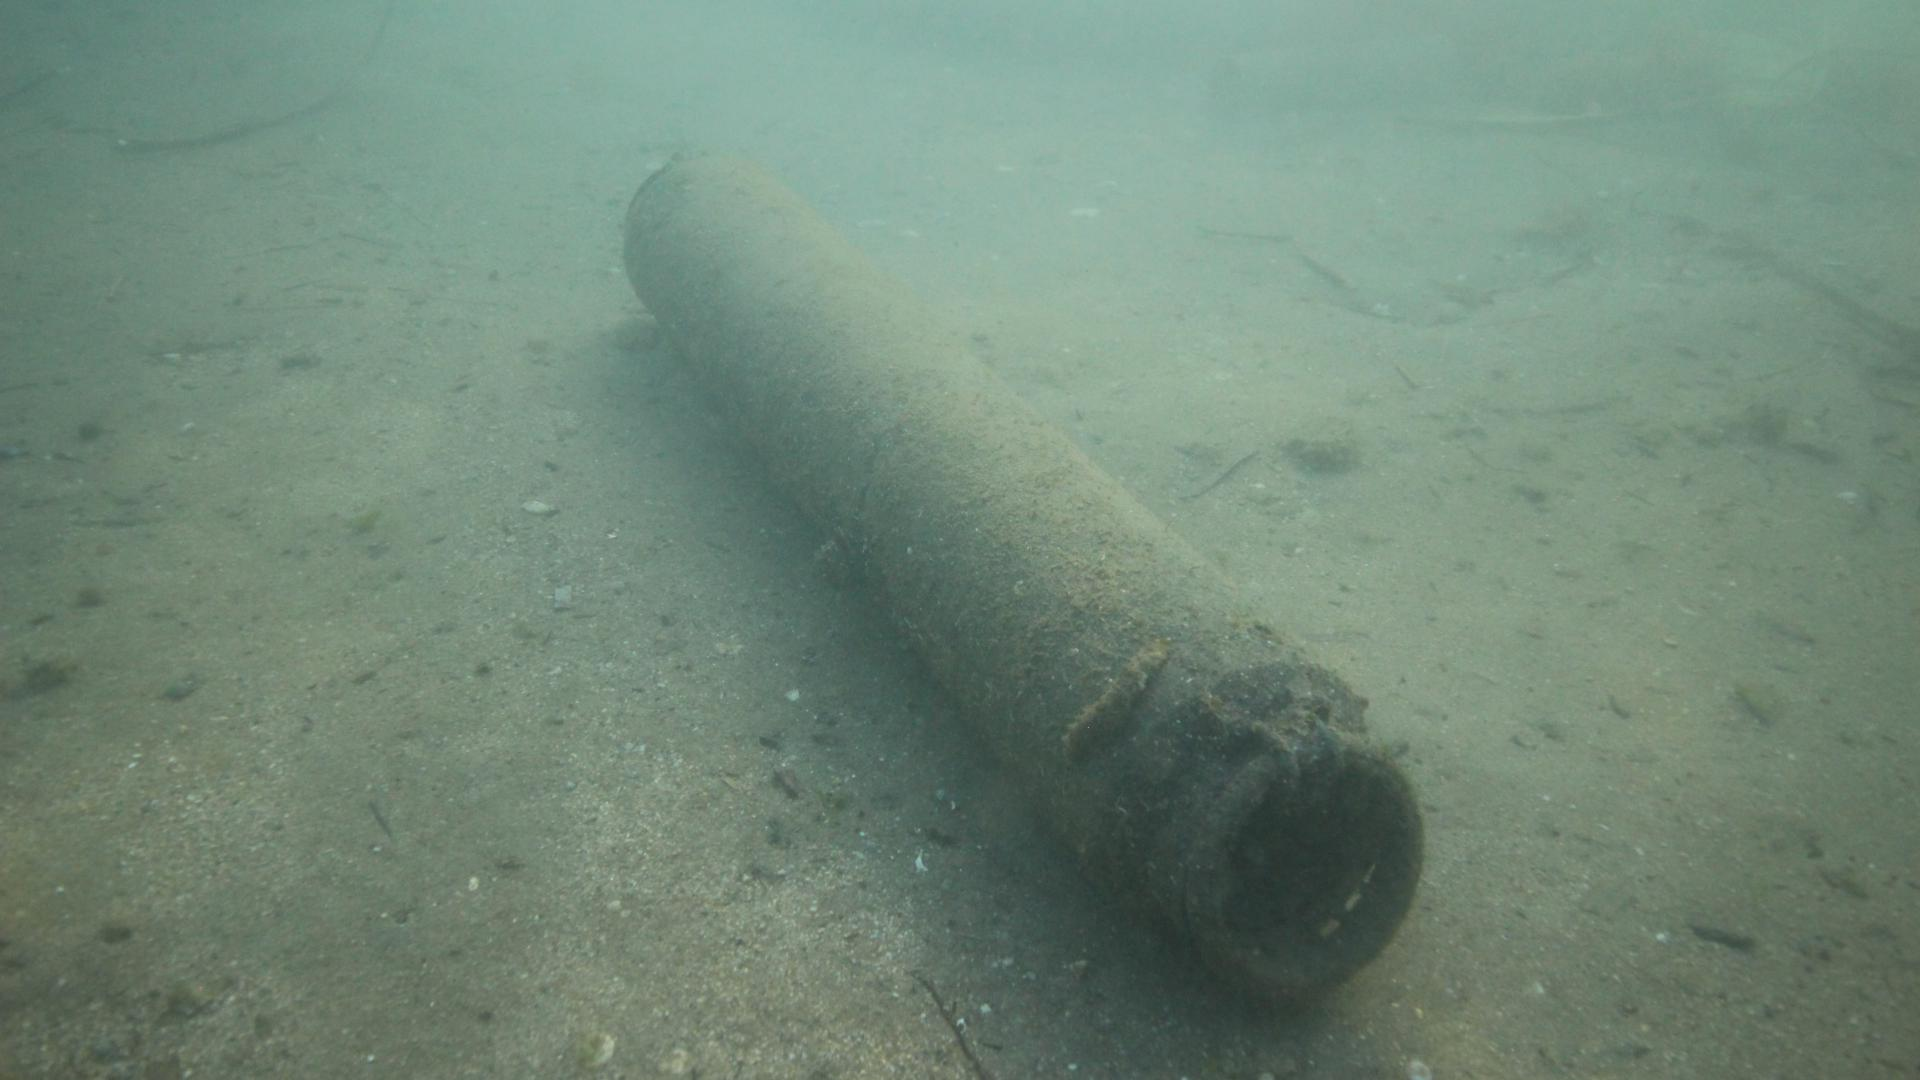eel fish trap: (618, 146, 1431, 1004)
